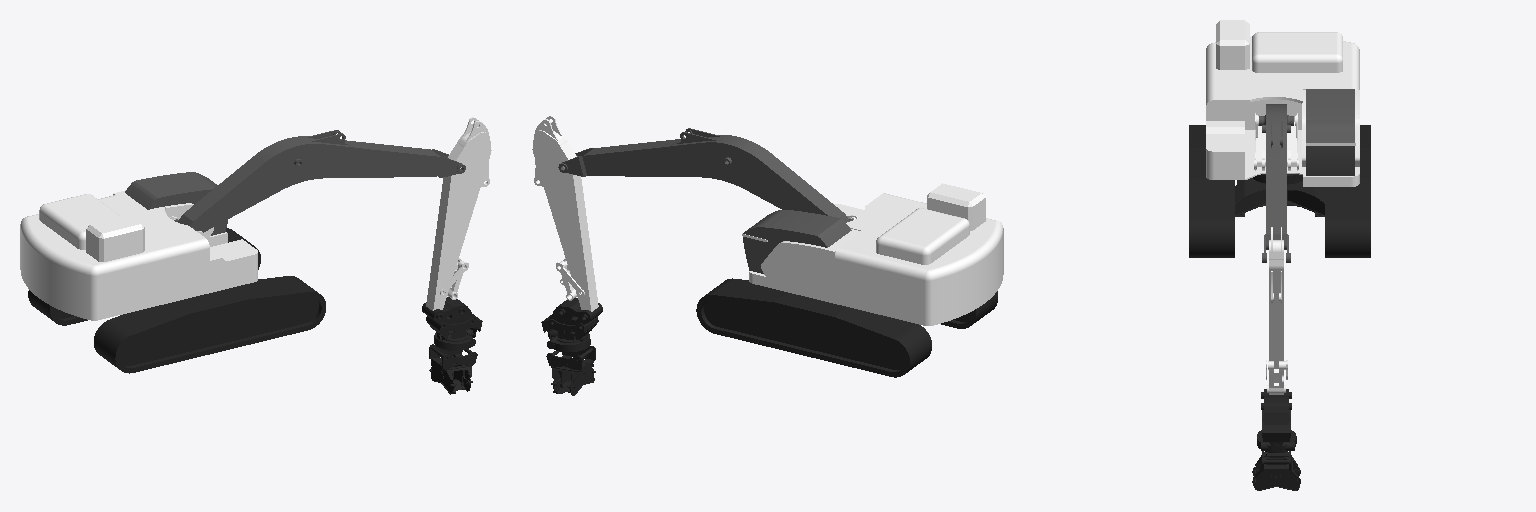
The robot description file, URDF, robot "EXCAVATOR_CONEXPO":
<?xml version="1.0"?>

<robot name="EXCAVATOR_CONEXPO" xmlns:xacro="http://www.ros.org/wiki/xacro">

<!-- 
Cordinate frame definition
Marked ||  (Link)   |        |  (Link)
Point  ||  Parent   | Joint  |  Child 
==========================================
    Z  || cs_ground | origin | base_link 
    O  || base_link | swing  | cs_cor 
    A  || cs_cor    | boom   | cs_boom 
    D  || cs_boom   | arm    | cs_arm 
    I  || cs_arm    | bucket | cs_bucket 
       || cs_bucket | tilt   | cs_tilt 
       || cs_tilt   | rotate | cs_rotate 
       || cs_rotate | tip    | cs_tip1 
-->

<!-- Predefine Colors -->
    <material name="black">
        <color rgba="0.0 0.0 0.0 1.0"/>
    </material>

    <material name="dark">
        <color rgba="0.2 0.2 0.2 1.0"/>
    </material>

    <material name="dark_grey">
        <color rgba="0.4 0.4 0.4 1.0"/>
    </material>

    <material name="grey">
        <color rgba="0.6 0.6 0.6 1.0"/>
    </material>

    <material name="white">
        <color rgba="1.0 1.0 1.0 1.0"/>
    </material>

    <material name="red">
        <color rgba="0.8 0.0 0.0 1.0"/>
    </material>

    <material name="green">
        <color rgba="0.0 0.8 0.0 1.0"/>
    </material>

    <material name="blue">
        <color rgba="0.0 0.0 0.8 1.0"/>
    </material>

    <material name="orange">
        <color rgba="1.0 0.4 0.04 1.0"/>
    </material>

<!-- ############# Define Link & Joint ############# -->

    <!-- Origin -->
    <link name="cs_ground"/>

    <joint name="lower_body_joint" type="fixed">
        <parent link="cs_ground"/>
        <child link="base_link"/>
        <origin rpy="0 0 0" xyz="0 0 0"/>
    </joint>

    <link name="base_link">
        <visual>
            <origin rpy="0 0 0" xyz="0 0 1.0670"/>
            <geometry>
                <mesh filename="assets/excavator/EX_CX_Lower.stl" scale="0.001 0.001 0.001"/>
            </geometry>
            <material name="dark"/>
        </visual>
    </link>

    <!-- Swing joint -->
    <joint name="upper_body_joint" type="revolute">
        <parent link="base_link"/>
        <child link="cs_cor"/>
        <origin rpy="0 0 0" xyz="0 0 1.0670"/>
        <axis xyz="0 0 1"/>
        <limit lower="-100000" upper="100000" velocity="0.1" effort="100"/>
    </joint>

    <link name="cs_cor">
        <visual>
            <origin rpy="0 0 0" xyz="0 0 0"/>
            <geometry>
                <mesh filename="assets/excavator/EX_CX_Body.stl" scale="0.001 0.001 0.001"/>
            </geometry>
            <material name="white"/>
        </visual>
    </link>

    <joint name="cover_a_joint" type="fixed">
        <parent link="cs_cor"/>
        <child link="cover_a"/>
        <origin rpy="0 0 0" xyz="0 0 0"/>
    </joint>

    <link name="cover_a">
        <visual>
            <origin rpy="0 0 0" xyz="0 0 0"/>
            <geometry>
                <mesh filename="assets/excavator/EX_CX_CoverA.stl" scale="0.001 0.001 0.001"/>
            </geometry>
            <material name="dark_grey"/>
        </visual>
    </link>

    <joint name="cover_b_joint" type="fixed">
        <parent link="cs_cor"/>
        <child link="cover_b"/>
        <origin rpy="0 0 0" xyz="0 0 0"/>
    </joint>

    <link name="cover_b">
        <visual>
            <origin rpy="0 0 0" xyz="0 0 0"/>
            <geometry>
                <mesh filename="assets/excavator/EX_CX_CoverB.stl" scale="0.001 0.001 0.001"/>
            </geometry>
            <material name="white"/>
        </visual>
    </link>

    <!-- Boom joint -->
    <joint name="boom_joint" type="revolute">
        <parent link="cs_cor"/>
        <child link="cs_boom"/>
        <origin rpy="0 1.07374 0" xyz="0.117 -0.06 0.738"/>
        <axis xyz="0 -1 0"/>
        <limit lower="-0.59" upper="1.39" velocity="0.1" effort="100"/>
    </joint>

    <link name="cs_boom">
        <visual>
            <origin rpy="0 0 0" xyz="-0.117 0.06 -0.738"/>
            <geometry>
                <mesh filename="assets/excavator/EX_CX_Boom.stl" scale="0.001 0.001 0.001"/>
            </geometry>
            <material name="dark_grey"/>
        </visual>
    </link>

    <!-- ARM joint -->
    <joint name="arm_joint" type="revolute">
        <parent link="cs_boom"/>
        <child link="cs_arm"/>
        <origin rpy="0 -2.7182 0" xyz="2.718 0 5.0103"/>
        <axis xyz="0 -1 0"/>
        <limit lower="-2.8" upper="-0.65" velocity="0.1" effort="100"/>
    </joint>

    <link name="cs_arm">
        <visual>
            <origin rpy="0 0 0" xyz="-2.835 0.06 -5.7483"/>
            <geometry>
                <mesh filename="assets/excavator/EX_CX_Arm.stl" scale="0.001 0.001 0.001"/>
            </geometry>
            <material name="white"/>
        </visual>
    </link>

    <!-- Bucket joint -->
    <joint name="bucket_joint" type="revolute"> <!-- Point D -->
        <parent link="cs_arm"/>
        <child link="cs_bucket"/>
        <origin rpy="0 0 0" xyz="-0.2142 0 -2.9029"/>
        <axis xyz="0 -1 0"/>
        <limit lower="-2.495" upper="0.75" velocity="0.1" effort="100"/>
    </joint>

    <link name="cs_bucket"> <!-- Link DT -->
        <visual>
            <origin rpy="1.5707 0 -1.5707" xyz="0.15 0 -0.2"/>
            <geometry>
                <mesh filename="assets/excavator/EX_CX_TR_Upper.stl" scale="0.001 0.001 0.001"/>
            </geometry>
            <material name="dark"/>
        </visual>
    </link>

    <!-- Tilt joint -->
    <joint name="tilt_joint" type="revolute"> <!-- Point T -->
        <parent link="cs_bucket"/>
        <child link="cs_tilt"/>
        <origin rpy="0 -1.5707963267948966 0" xyz="0 0 -0.5548"/>
        <axis xyz="0 0 1"/>
        <!-- <limit lower="-0.7" upper="0.7" velocity="0.1" effort="100"/> -->
        <!-- set conservative limit for stable tilt joint control -->
        <limit lower="-0.27" upper="0.27" velocity="0.1" effort="100"/>
    </joint>

    <link name="cs_tilt"> <!-- Link TU -->
        <visual>
            <!-- <origin rpy="3.141592653589793 -1.5707963267948966 0" xyz="-0.1 0 -0.5128"/> -->
            <origin rpy="3.141592653589793 -1.5707963267948966 0" xyz="0 0 -0.47"/>
            <geometry>
                <mesh filename="assets/excavator/EX_CX_TR_Mid.stl" scale="0.001 0.001 0.001"/>
            </geometry>
            <material name="dark"/>
        </visual>
    </link>

    <!-- Rotate joint -->
    <joint name="rotate_joint" type="revolute"> <!-- Point U -->
        <parent link="cs_tilt"/>
        <child link="cs_rotate"/>
        <!-- <origin rpy="3.141592653589793 -1.5707963267948966 0" xyz="-0.1 0 -0.5128"/> -->
        <origin rpy="3.141592653589793 -1.5707963267948966 0" xyz="0.0 0 -0.47"/>
        <axis xyz="0 0 1" />
        <limit lower="-100000" upper="100000" velocity="0.1" effort="100"/>
    </joint>

    <link name="cs_rotate"> <!-- Link UV -->
        <visual>
            <origin rpy="0 0 0" xyz="0 0 -0.105"/>
            <geometry>
                <mesh filename="assets/excavator/EX_CX_TR_Lower.stl" scale="1 1 1"/>
            </geometry>
            <material name="dark"/>
        </visual>
    </link>

    <!-- Grip body joint -->
    <joint name="Gripbody_joint" type="fixed"> 
        <parent link="cs_rotate"/>
        <child link="grip_body"/>
        <origin rpy="-1.5707963267948966 0 -1.5707963267948966" xyz="-0.01 0 -0.535"/>        
    </joint>

    <link name="grip_body"> 
        <visual>
            <origin rpy="0 0 0" xyz="0 0 0"/>
            <geometry>
                <mesh filename="assets/excavator/StoneGrab_Body.stl" scale="1 1 1"/>
            </geometry>
            <material name="dark"/>
        </visual>
    </link>

    <!-- Grip Left joint -->
    <joint name="Gripleft_joint" type="revolute"> 
        <parent link="grip_body"/>
        <child link="grip_left"/>
	<origin rpy="0 0 0" xyz="-0.375 0.257 0.0"/>
        <axis xyz="0 0 1"/>
        <limit lower="-1.14" upper="0" velocity="0.1" effort="100"/>
    </joint>

    <link name="grip_left"> 
        <visual>
            <origin rpy="0 0 0" xyz="0.375 -0.257 0.0"/>
            <geometry>
                <mesh filename="assets/excavator/StoneGrab_Left_with_Teeth.stl" scale="1 1 1"/>
            </geometry>
            <material name="dark"/>
        </visual>
    </link>

    <!-- Grip Right joint -->
    <joint name="Gripright_joint" type="revolute"> 
        <parent link="grip_body"/>
        <child link="grip_right"/>
        <origin rpy="0 0 0" xyz="0.375 0.257 0.0"/>
        <axis xyz="0 0 -1"/>
        <limit lower="-1.14" upper="0" velocity="0.1" effort="100"/>
    </joint>

    <link name="grip_right"> 
        <visual>
            <origin rpy="0 0 0" xyz="-0.375 -0.257 0.0"/>
            <geometry>
                <mesh filename="assets/excavator/StoneGrab_Right_with_Teeth.stl" scale="1 1 1"/>
            </geometry>
            <material name="dark"/>
        </visual>
    </link>


<!-- ################### Sensor setting ################### -->

    <joint name="boom_to_lidar_joint" type="fixed">
        <parent link="cs_boom"/>
        <child link="boom_to_lidar_link"/>
        <origin rpy="0 -1.07374 0" xyz="0.0 0.0 0.0"/>
    </joint>

    <link name="boom_to_lidar_link"/>

    <joint name="arm_to_lidar_joint" type="fixed">
        <parent link="cs_arm"/>
        <child link="arm_to_lidar_link"/>
        <origin rpy="0 1.6445 0" xyz="0.0 0.0 0.0"/>
    </joint>

    <link name="arm_to_lidar_link"/>

    <!-- Lidar1 joint -->
    <joint name="lidar1_joint" type="fixed">
        <parent link="boom_to_lidar_link"/>
        <child link="lidar1_link"/>
        <origin rpy="0.0 1.79336 0.0" xyz="3.6656 0.3265 0.2631"/>
    </joint>

    <link name="lidar1_link"/>

    <!-- Lidar2 joint -->
    <joint name="lidar2_joint" type="fixed">
        <parent link="boom_to_lidar_link"/>
        <child link="lidar2_link"/>
        <origin rpy="0.0 1.0080 0.0" xyz="3.8917 0.3231 0.2585"/>
        <!-- <origin rpy="-0.02862335 0.9225526 -0.03061285" xyz="3.642763 0.31894395 0.00691766"/> -->
    </joint>

    <link name="lidar2_link"/>

    <!-- Lidar3 joint -->
    <joint name="lidar3_joint" type="fixed">
        <parent link="arm_to_lidar_link"/>
        <child link="lidar3_link"/>
        <origin rpy="3.141592653589793 0.3640 0.0" xyz="1.8705925267480394 0.35064 -0.047676397456024165"/>
    </joint>

    <link name="lidar3_link"/>

</robot>

--- What the picture shows (computed from the rendered views, not written in the file) ---
3 views of the same robot in one strip: view 1: azimuth 30°, elevation 25°; view 2: azimuth 150°, elevation 25°; view 3: azimuth 270°, elevation 25° (orthographic).
Model EXCAVATOR_CONEXPO with 18 links and 17 joints (8 revolute, 9 fixed), rooted at cs_ground, posed joints at zero except 1 at the middle of their limits (arm_joint = -1.73).
Links seen in each view (by area): view 1: cs_cor, base_link, cs_boom, cs_arm, cover_a, grip_body, cs_bucket, cs_tilt, cover_b; view 2: cs_cor, base_link, cs_boom, cs_arm, cover_a, cover_b, grip_body, cs_bucket, cs_tilt; view 3: cs_cor, base_link, cover_a, cs_boom, cs_arm, grip_body, cs_bucket, cover_b.
Boxes of the visible links, x1=… form: cs_cor: x1=20, y1=194, x2=257, y2=320; base_link: x1=28, y1=228, x2=325, y2=373; cs_boom: x1=174, y1=130, x2=465, y2=232; cs_arm: x1=426, y1=117, x2=491, y2=310; cover_a: x1=125, y1=172, x2=227, y2=235; grip_body: x1=429, y1=344, x2=477, y2=394; cs_bucket: x1=422, y1=297, x2=482, y2=340; cs_tilt: x1=434, y1=329, x2=475, y2=350; cover_b: x1=113, y1=180, x2=215, y2=238; cs_cor: x1=749, y1=183, x2=1003, y2=325; base_link: x1=696, y1=278, x2=997, y2=377; cs_boom: x1=558, y1=128, x2=852, y2=222; cs_arm: x1=532, y1=116, x2=598, y2=311; cover_a: x1=743, y1=210, x2=851, y2=273; cover_b: x1=742, y1=216, x2=860, y2=293; grip_body: x1=546, y1=346, x2=595, y2=395; cs_bucket: x1=541, y1=298, x2=602, y2=341; cs_tilt: x1=547, y1=330, x2=590, y2=351; cs_cor: x1=1206, y1=20, x2=1359, y2=186; base_link: x1=1189, y1=125, x2=1370, y2=257; cover_a: x1=1306, y1=89, x2=1354, y2=175; cs_boom: x1=1259, y1=104, x2=1293, y2=262; cs_arm: x1=1266, y1=227, x2=1287, y2=394; grip_body: x1=1252, y1=451, x2=1300, y2=490; cs_bucket: x1=1261, y1=389, x2=1291, y2=452; cover_b: x1=1302, y1=90, x2=1359, y2=166.
Bounding box of the posed robot: 9.4 × 3.19 × 5.71 m (x, y, z).
9 mesh visuals loaded from 12 distinct referenced files (9 binary STL); not drawn: 3 (reference not matched to a file when rendering).
